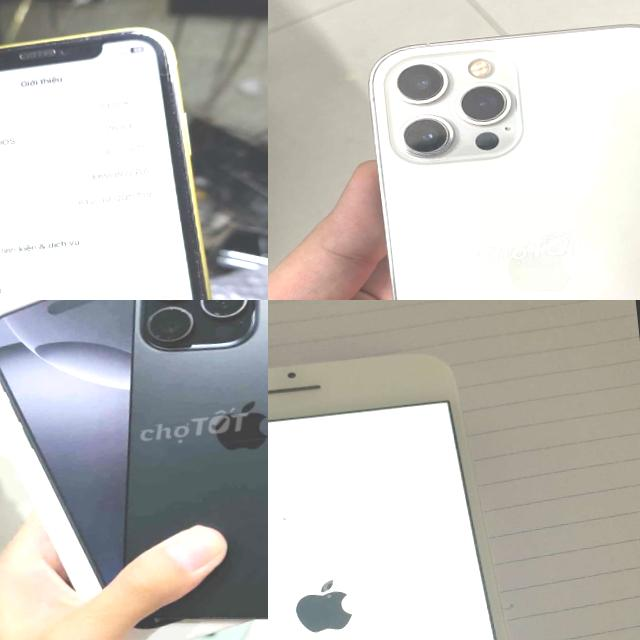gen_11: (0, 13, 244, 300)
gen_12_13: (358, 11, 640, 300)
gen_16: (74, 300, 268, 640)
gen_6: (268, 354, 508, 640)
